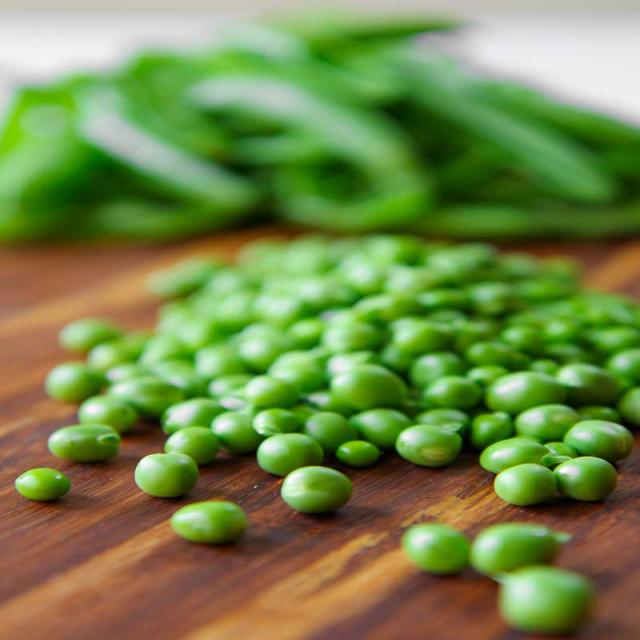Peas: (45, 354, 640, 536)
